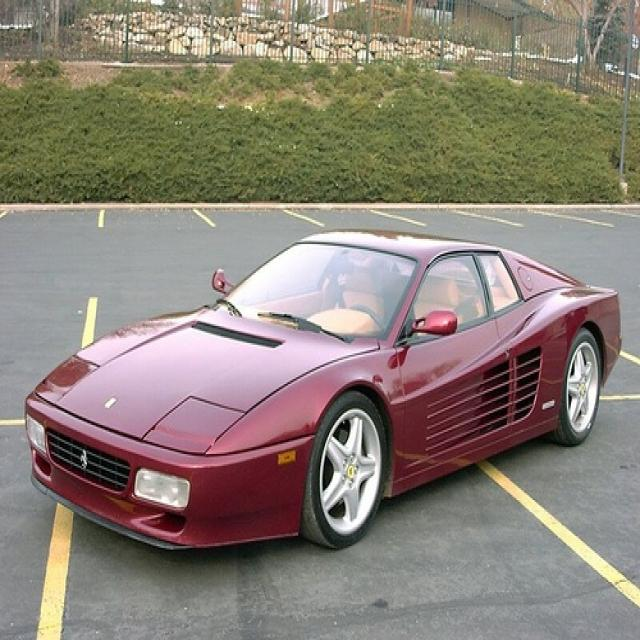car: (23, 227, 623, 551)
